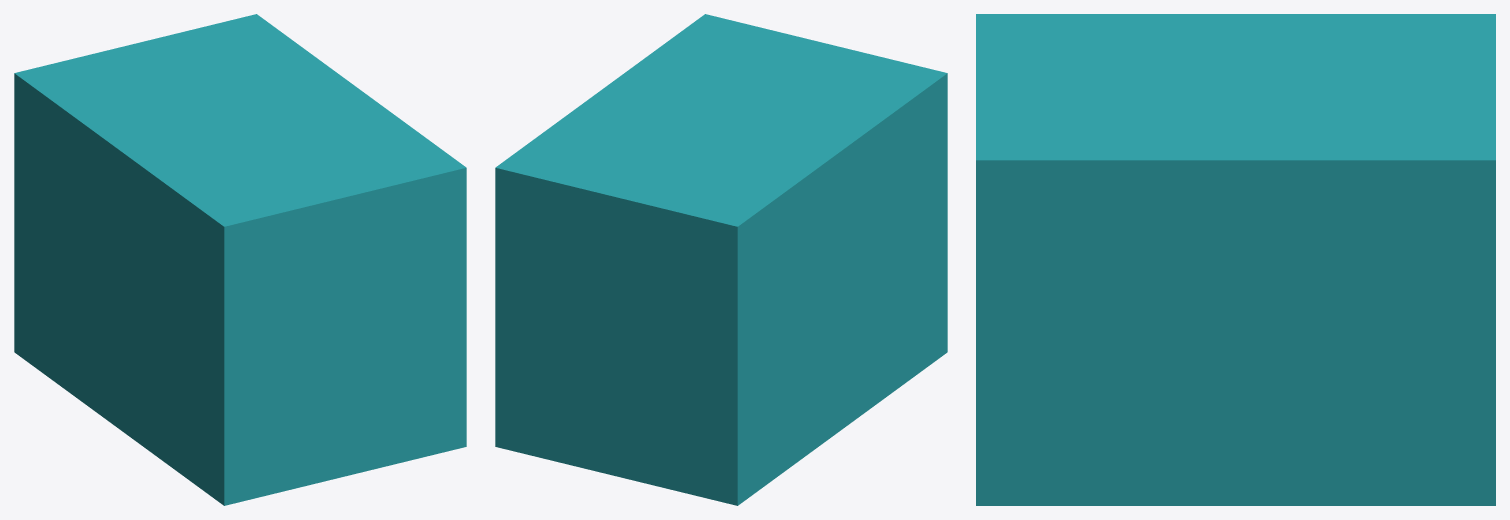
The model's file is file-cabinet.glb.
The picture shows the model from 3 angles, left to right: view 1: azimuth 30°, elevation 25°; view 2: azimuth 150°, elevation 25°; view 3: azimuth 270°, elevation 25°; orthographic projection. The views are drawn at different scales.
Visible parts, largest first — view 1: world; view 2: world; view 3: world.
Boxes of the visible parts, left/top/right/bottom form: world: left=14, top=14, right=466, bottom=505; world: left=495, top=14, right=947, bottom=505; world: left=976, top=14, right=1495, bottom=505.
Size of the model in its own units: 0.5 by 0.5725 by 0.75.
